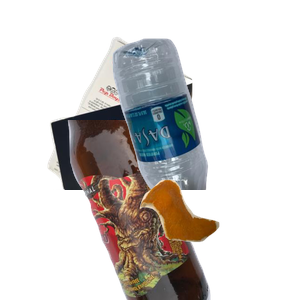glass: (65, 120, 300, 300)
paper: (45, 34, 230, 214)
plastic: (110, 36, 300, 216)
trash: (137, 177, 300, 300)
